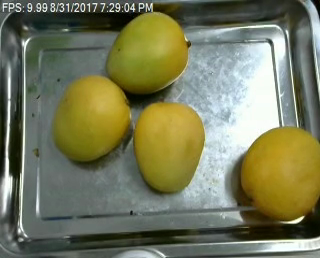Mango: (236, 125, 320, 223), (103, 9, 187, 93), (51, 77, 130, 163), (135, 100, 204, 193)
